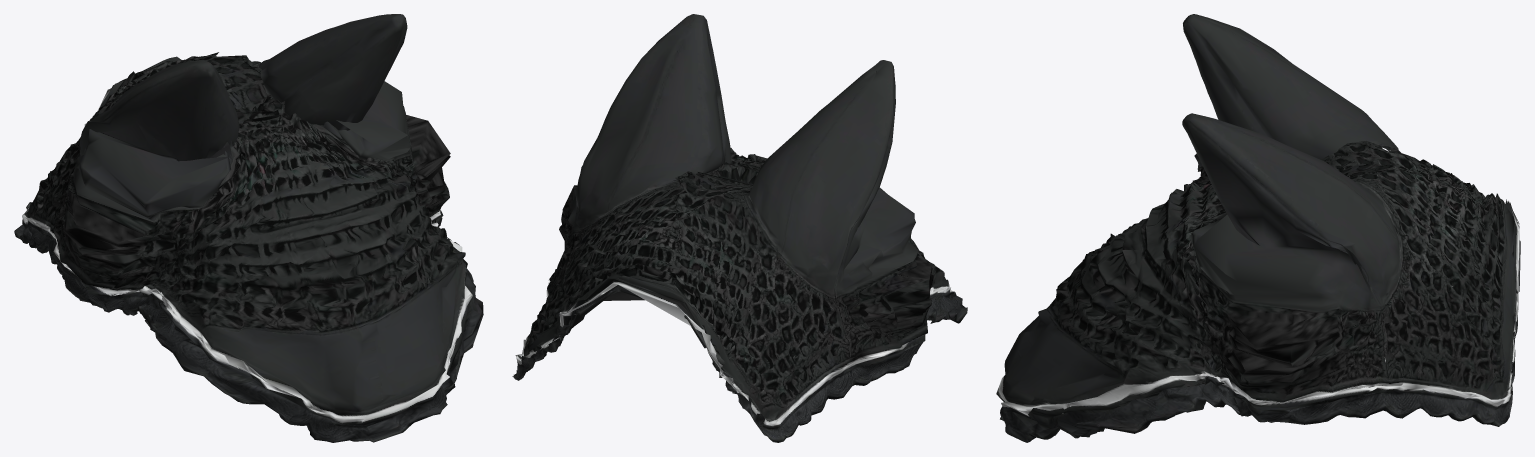
The model's file is ear-bonnet-on-horse.glb.
3 renders of one model, left to right at view 1: azimuth 30°, elevation 25°; view 2: azimuth 150°, elevation 25°; view 3: azimuth 270°, elevation 25°, orthographic. The views are drawn at different scales.
Visible parts, largest first — view 1: tripo_node_4033099c; view 2: tripo_node_4033099c; view 3: tripo_node_4033099c.
Boxes of the visible parts, box(x1,y1,x2,y2) form: tripo_node_4033099c: box(14, 14, 483, 442); tripo_node_4033099c: box(512, 14, 967, 442); tripo_node_4033099c: box(996, 14, 1520, 442).
Bounding box in the file's own units: 0.2648 × 0.2262 × 0.3032.
1 material, 1 textured.
